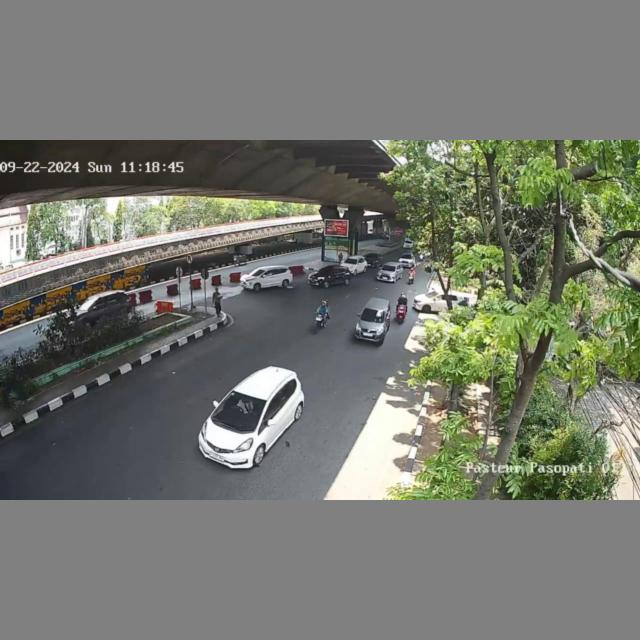windshield: (212, 391, 266, 431), (360, 308, 385, 324), (382, 265, 399, 272), (345, 259, 358, 264)
